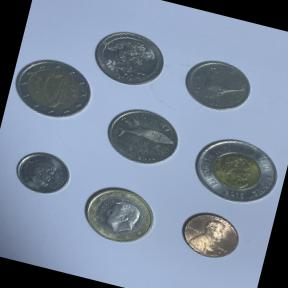coin: (182, 125, 288, 219), (5, 49, 100, 129), (72, 175, 167, 255), (98, 94, 190, 174), (83, 20, 173, 94), (172, 202, 250, 268), (8, 142, 78, 204)
